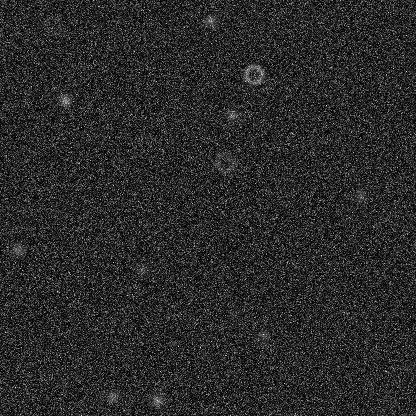Ring: (241, 62, 265, 86), (212, 150, 236, 174), (41, 13, 65, 37)
Spot: (57, 92, 73, 108), (19, 199, 35, 215), (352, 188, 368, 204), (255, 328, 271, 344), (224, 308, 240, 324), (224, 107, 240, 123), (135, 262, 151, 278), (104, 388, 120, 404), (202, 12, 218, 28), (10, 241, 26, 257), (149, 392, 165, 408)
